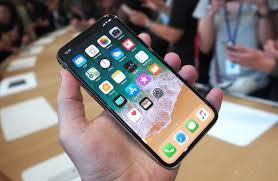iphone: (52, 14, 222, 172)
iphone10: (52, 14, 222, 172)
